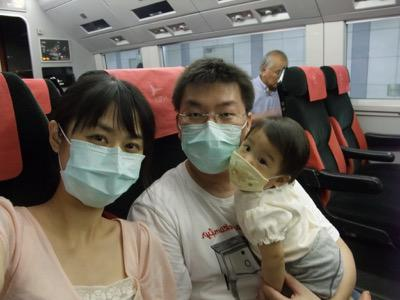with_mask: (58, 116, 147, 210), (178, 96, 248, 174), (227, 134, 280, 194)
without_mask: (265, 66, 282, 90)
